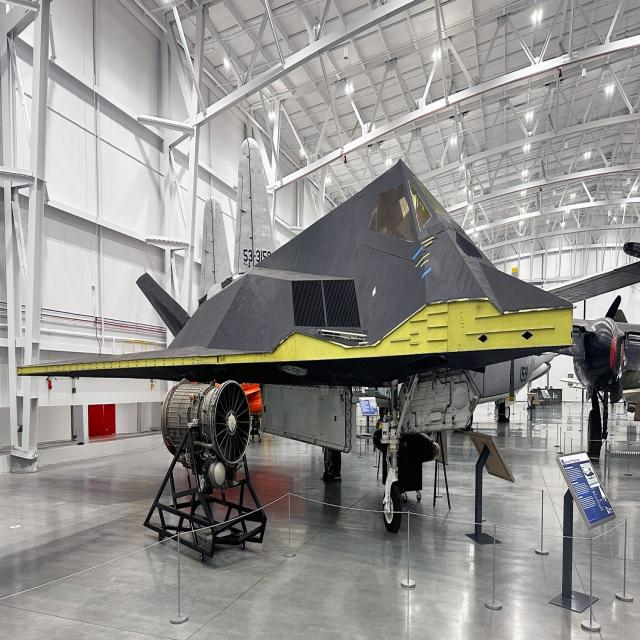F117: (2, 104, 588, 556)
